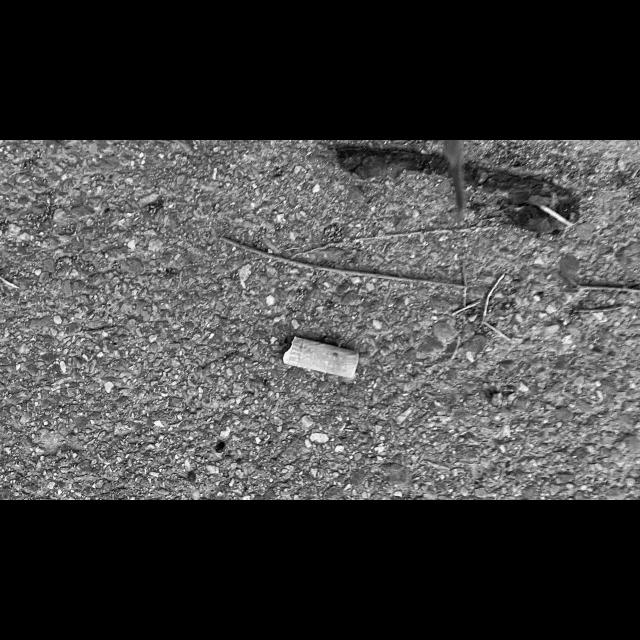cigarette: (282, 335, 359, 379)
